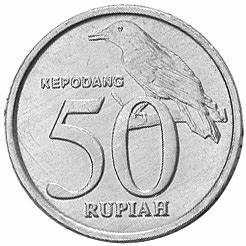coin_50_1999: (3, 3, 243, 246)
